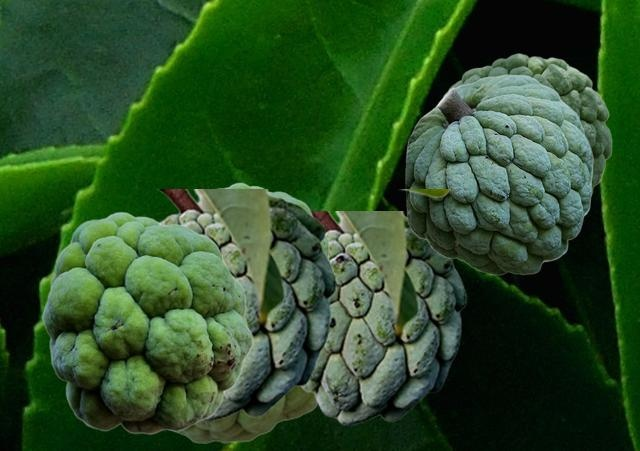atis: (153, 189, 449, 421), (42, 211, 252, 434), (405, 74, 592, 274), (298, 211, 469, 425), (165, 212, 317, 442), (442, 53, 611, 195), (215, 182, 329, 255)
